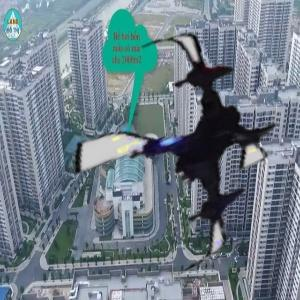drone: (56, 34, 297, 275)
